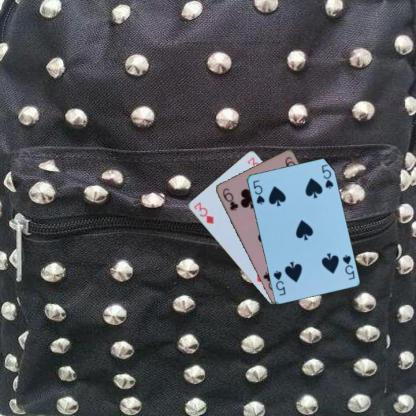3d: (191, 200, 215, 226)
5s: (250, 177, 266, 206), (340, 252, 356, 281)
6c: (220, 186, 239, 213)
